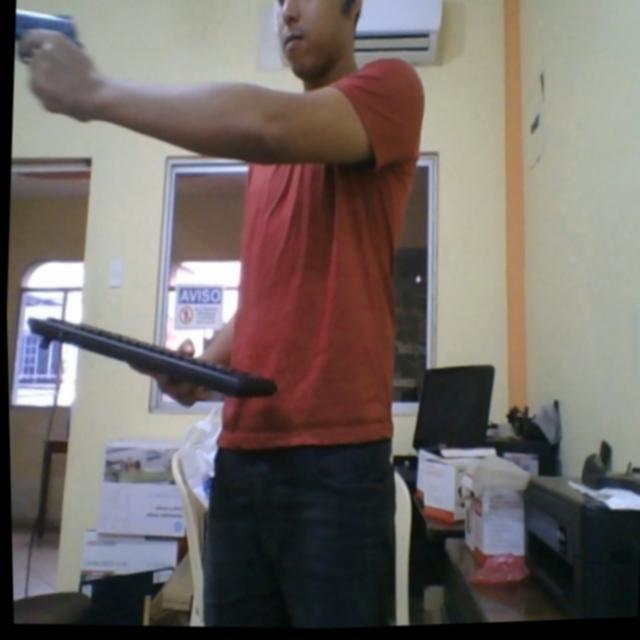weapon: (12, 0, 89, 70)
